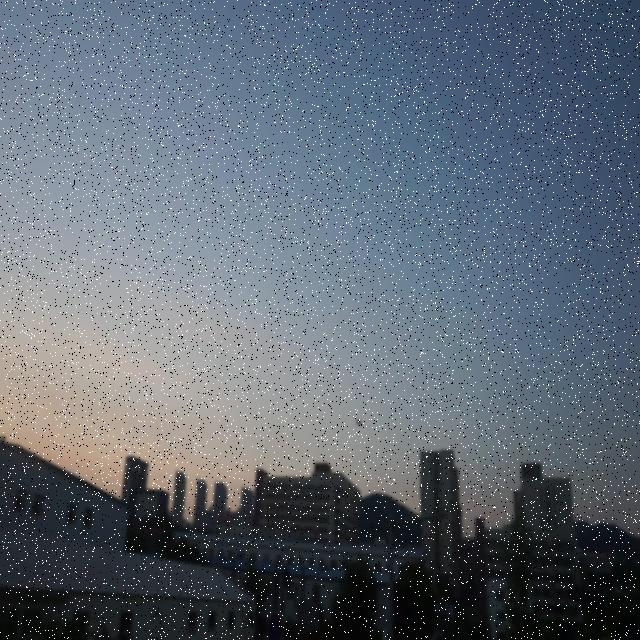UAV: (354, 416, 363, 428)
